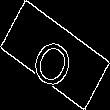O_NE: (28, 22, 82, 88)
